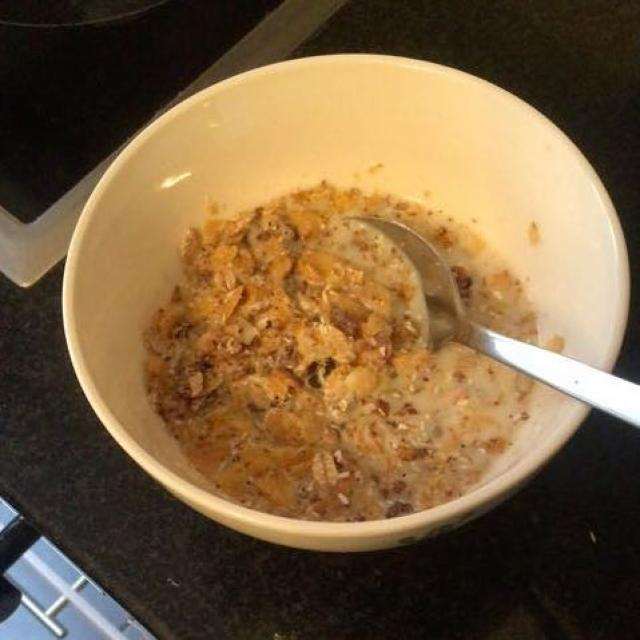milk: (324, 178, 535, 480)
muesli: (151, 189, 532, 515)
